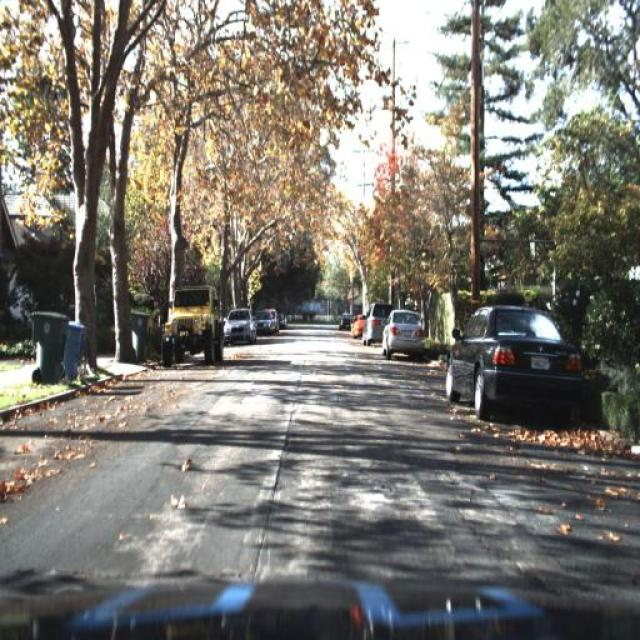car: (437, 282, 591, 434), (150, 278, 228, 376), (378, 302, 430, 361), (221, 299, 260, 350), (361, 299, 384, 349), (254, 310, 275, 340)
